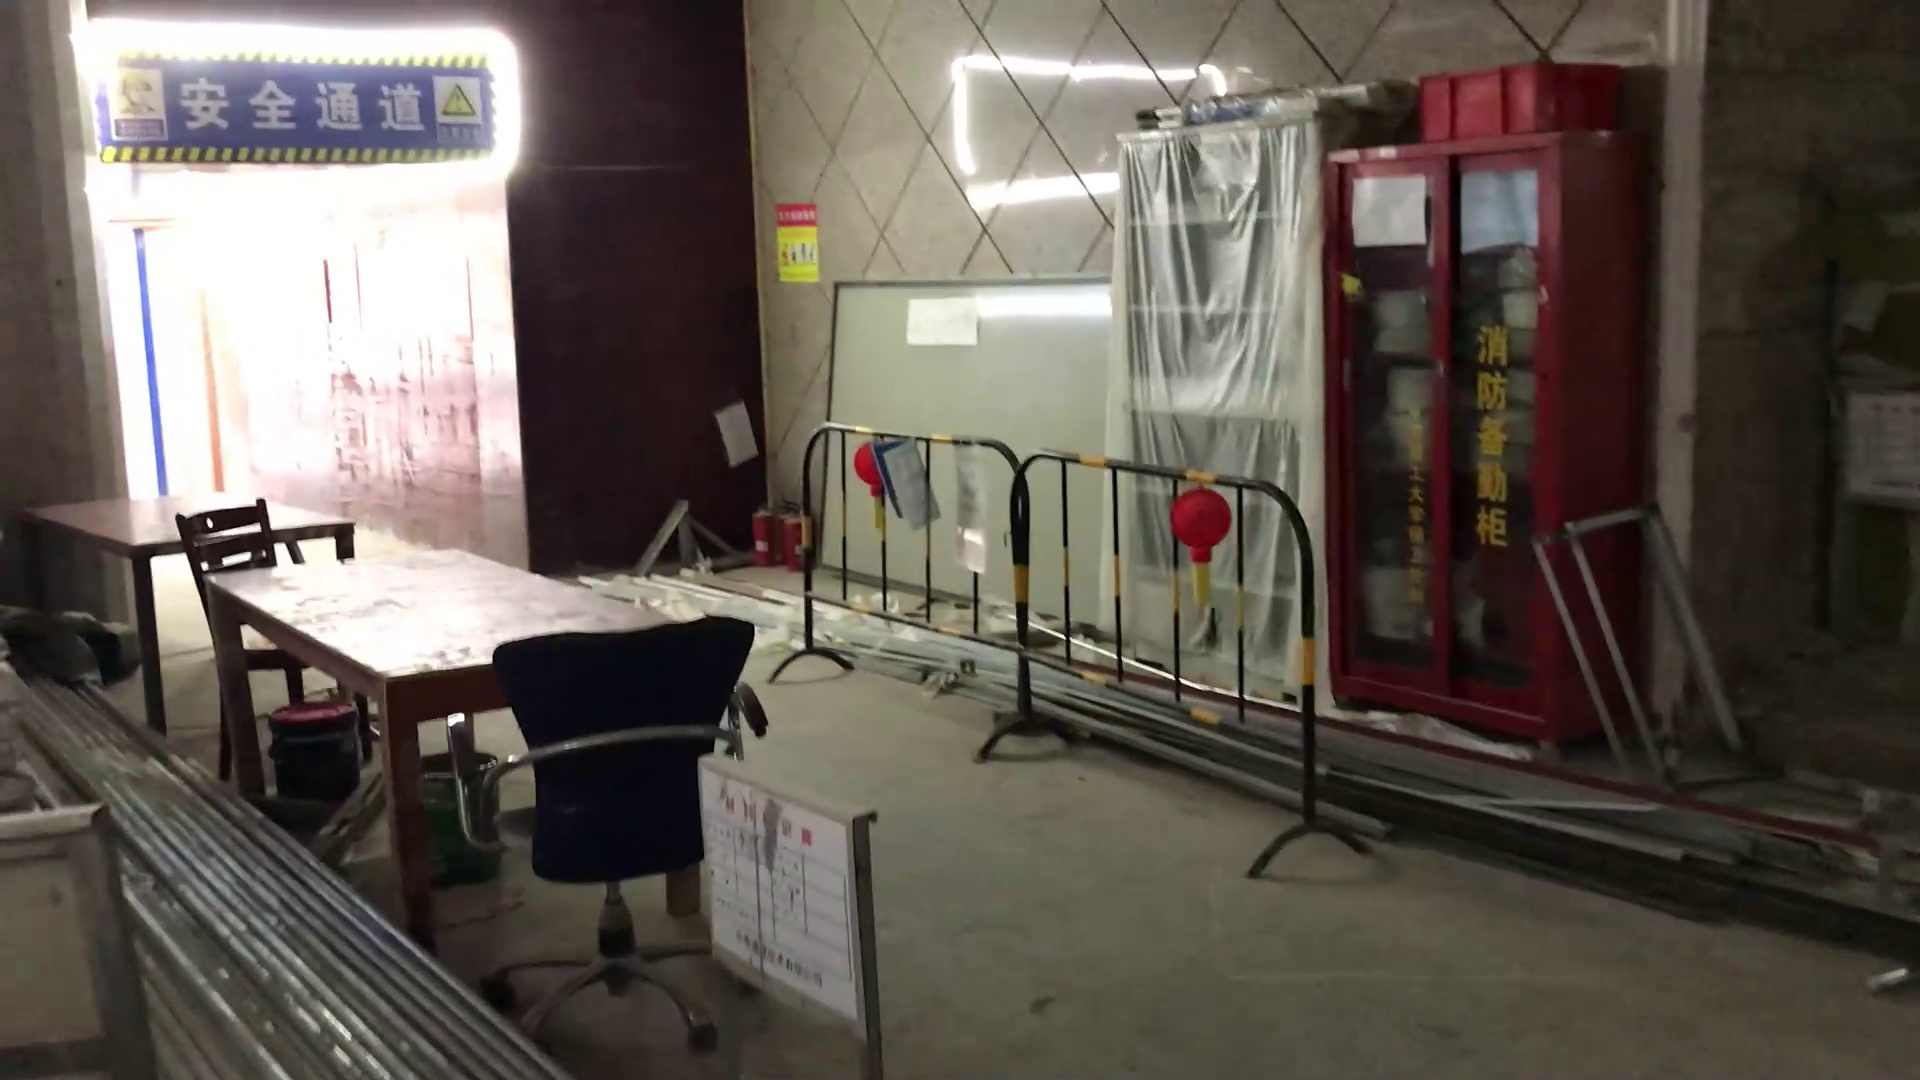fence: (785, 414, 1342, 836)
slogan: (104, 55, 502, 179), (771, 196, 829, 285)
